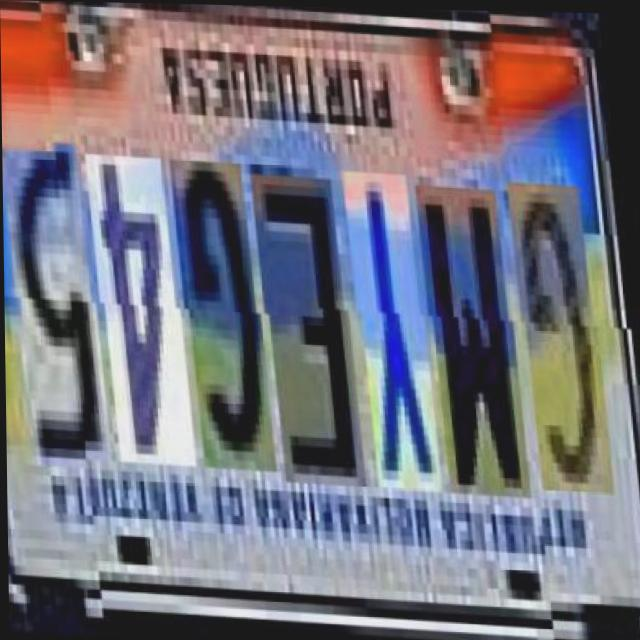4: (93, 159, 195, 470)
5: (8, 145, 110, 466)
e: (258, 176, 365, 488)
g: (178, 163, 275, 475), (517, 190, 613, 502)
m: (424, 185, 529, 497)
y: (351, 172, 440, 492)
